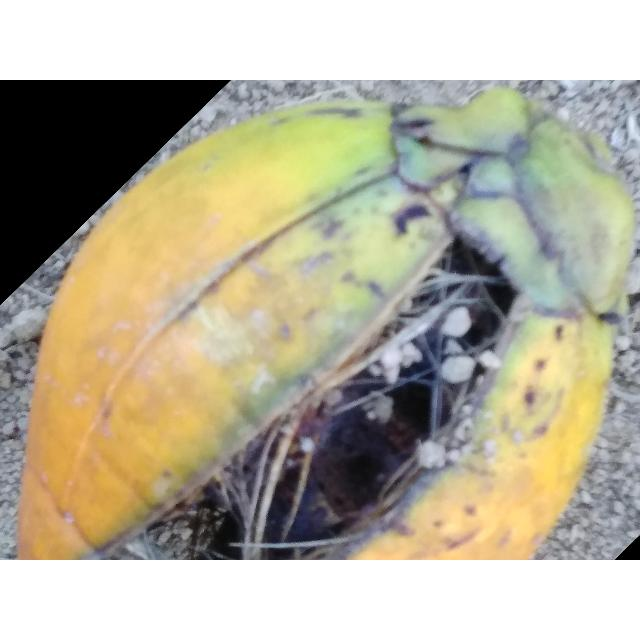damaged: (18, 88, 635, 560)
